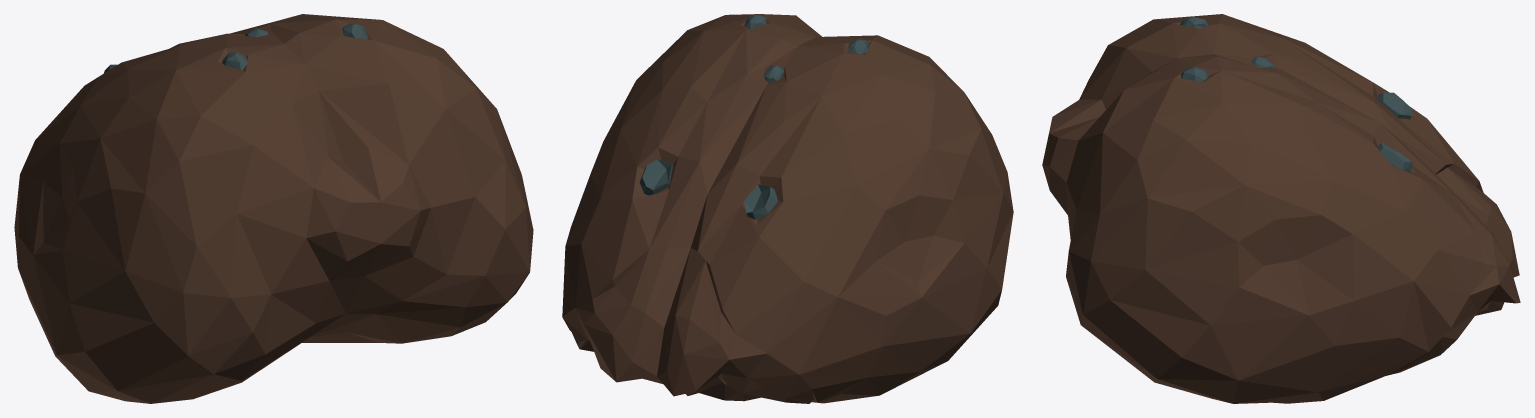
File: head3.dae
3 renders of one model, left to right at view 1: azimuth 30°, elevation 25°; view 2: azimuth 150°, elevation 25°; view 3: azimuth 270°, elevation 25°, orthographic. The views are drawn at different scales.
Visible parts, largest first — view 1: ant-head-dots; view 2: ant-head-dots; view 3: ant-head-dots.
Part boxes in pixels (x1,y1,x2,y2): ant-head-dots: (14,14,533,403); ant-head-dots: (562,14,1013,403); ant-head-dots: (1042,14,1520,403).
Size of the model in its own units: 5.03 by 5.48 by 3.84.
